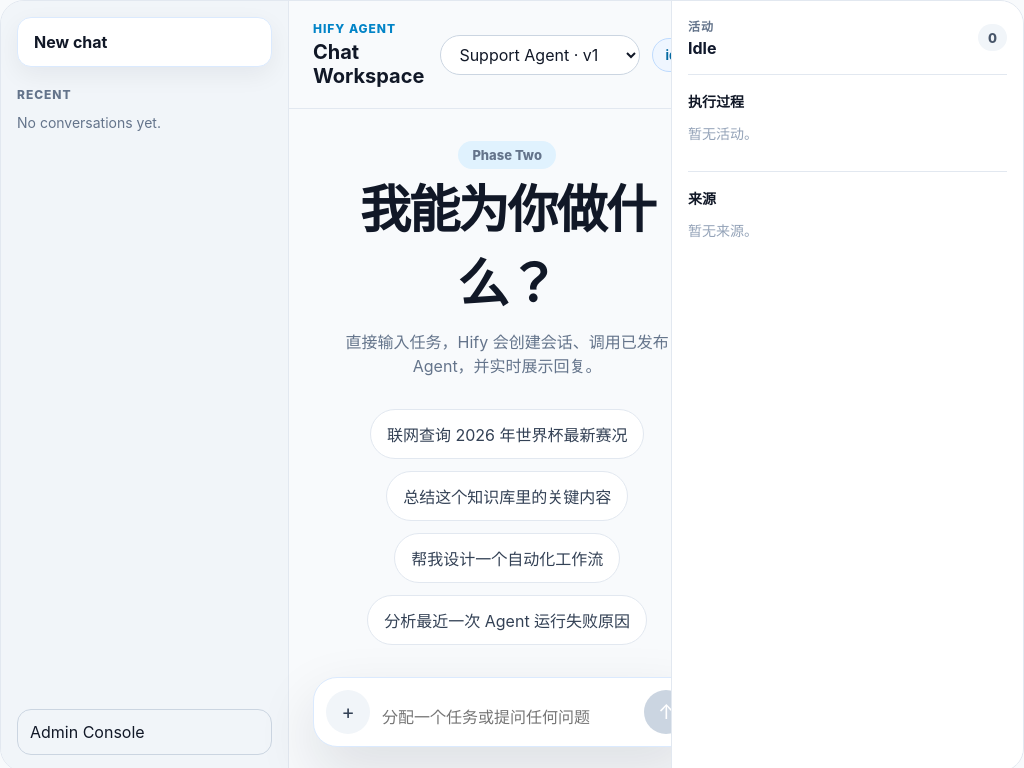
Test case: UserChatWorkspace › creates a conversation, sends a message, and starts a streaming run
Select "Support Agent · v1" in the dropdown named "Agent" at (540, 54), box [440,34,640,74]
Type " Help me " into the text box named "Message" at (507, 714), box [382,694,632,734]
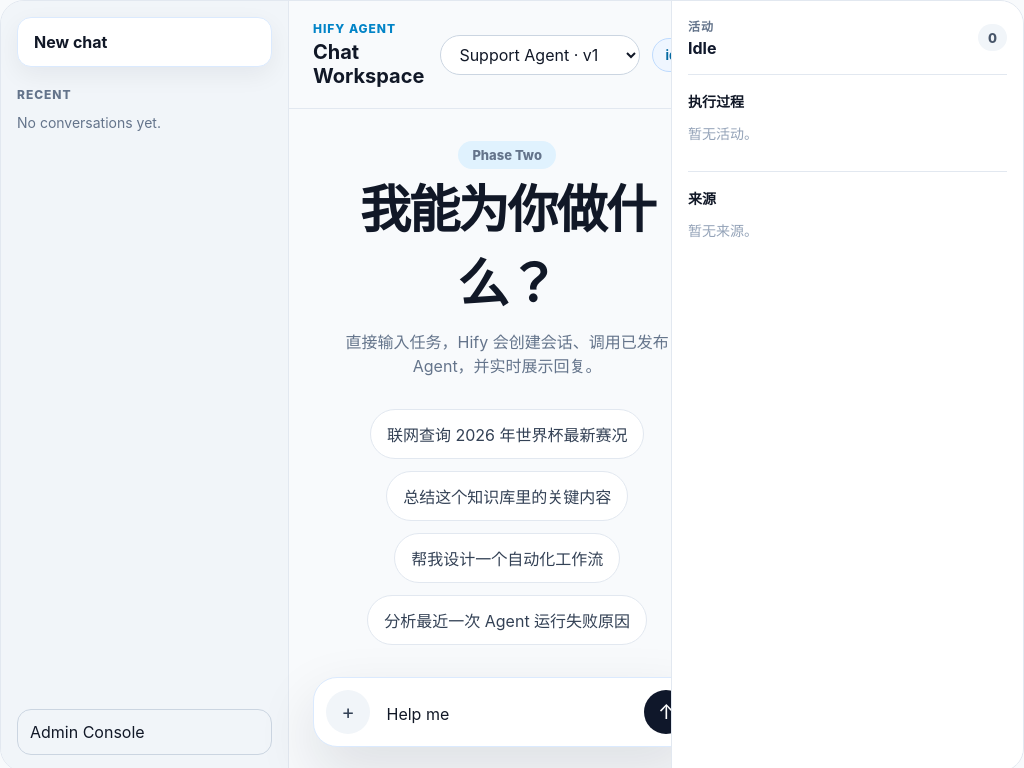
Click the button "↑" at (666, 712), box [644,690,688,734]
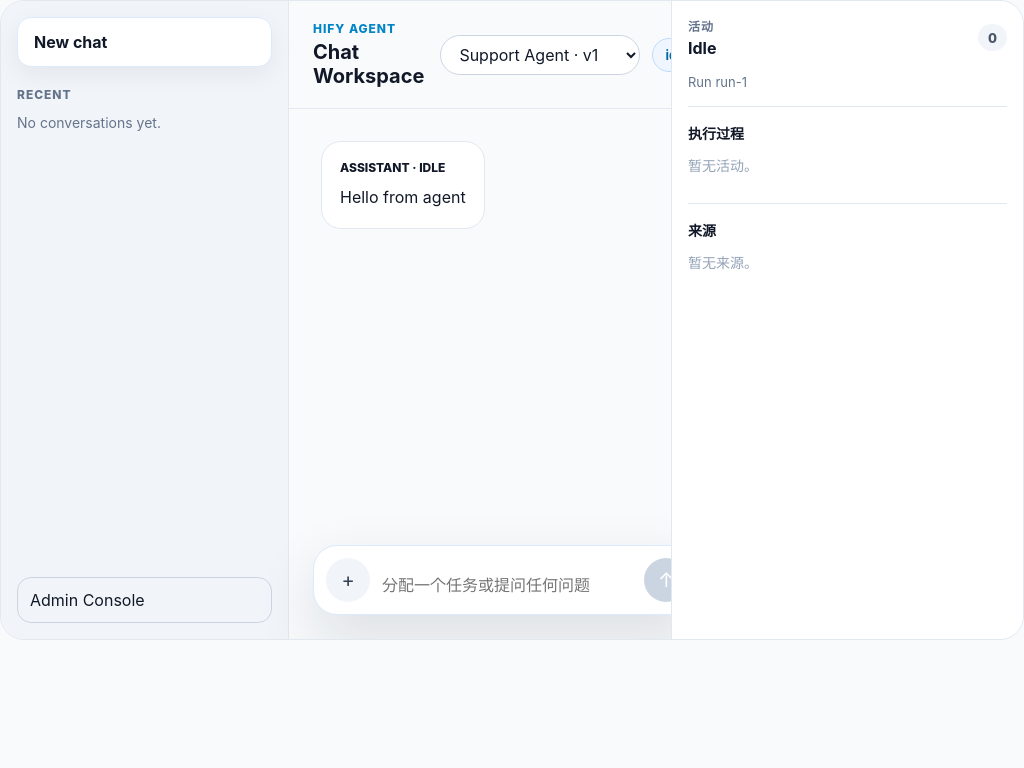
Now the text "Hello from agent" is shown, box [340,184,466,212]
